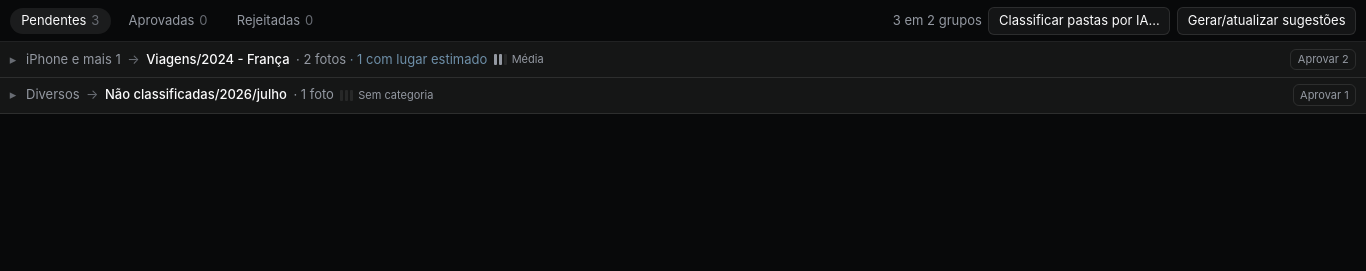
Test: Review › abrir e fechar o grupo mostra e esconde as linhas
Click the text "Viagens/2024 - França". click: (218, 59)
box: [146,50,290,69]
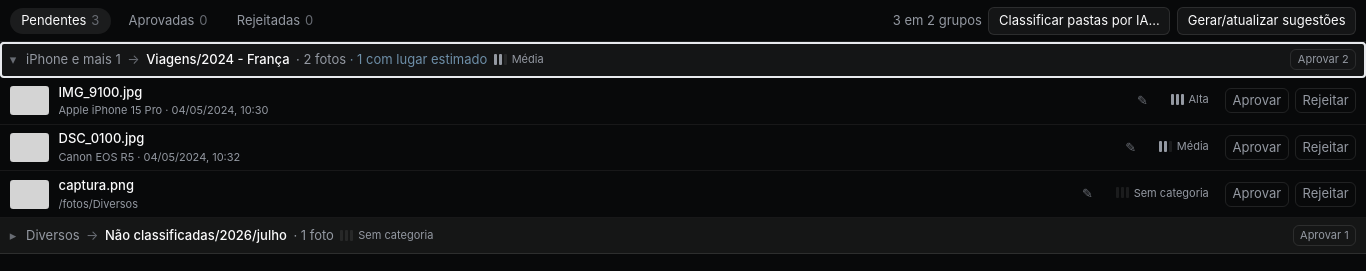
Expected: the text "DSC_0100.jpg" is shown, [58,129,144,149]
Click the text "Viagens/2024 - França". click: (218, 59)
box: [146,50,290,69]
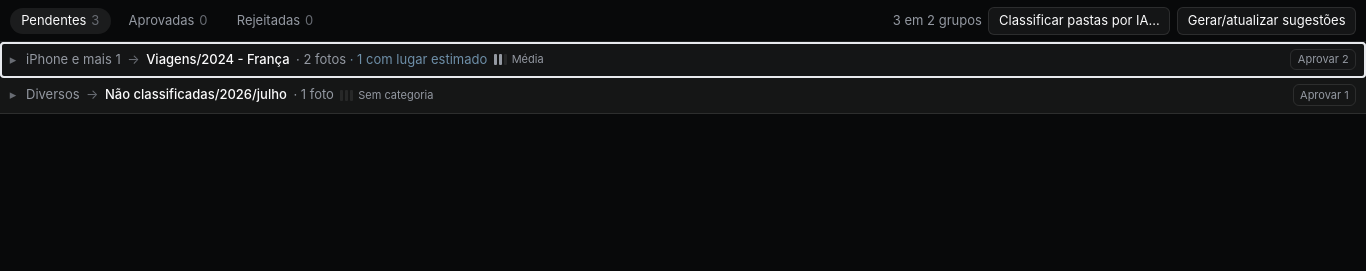
Expected: the text "DSC_0100.jpg" is gone
